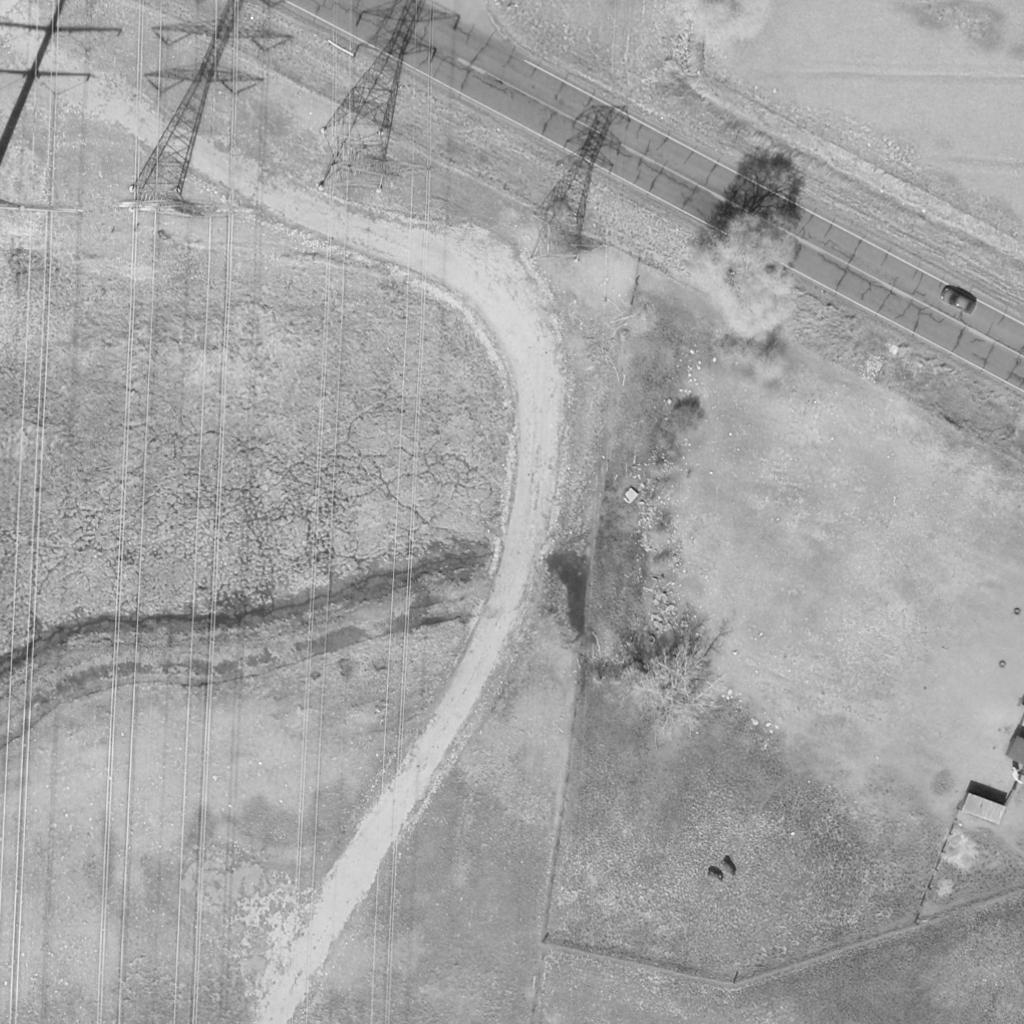vehicle: (938, 285, 978, 315)
